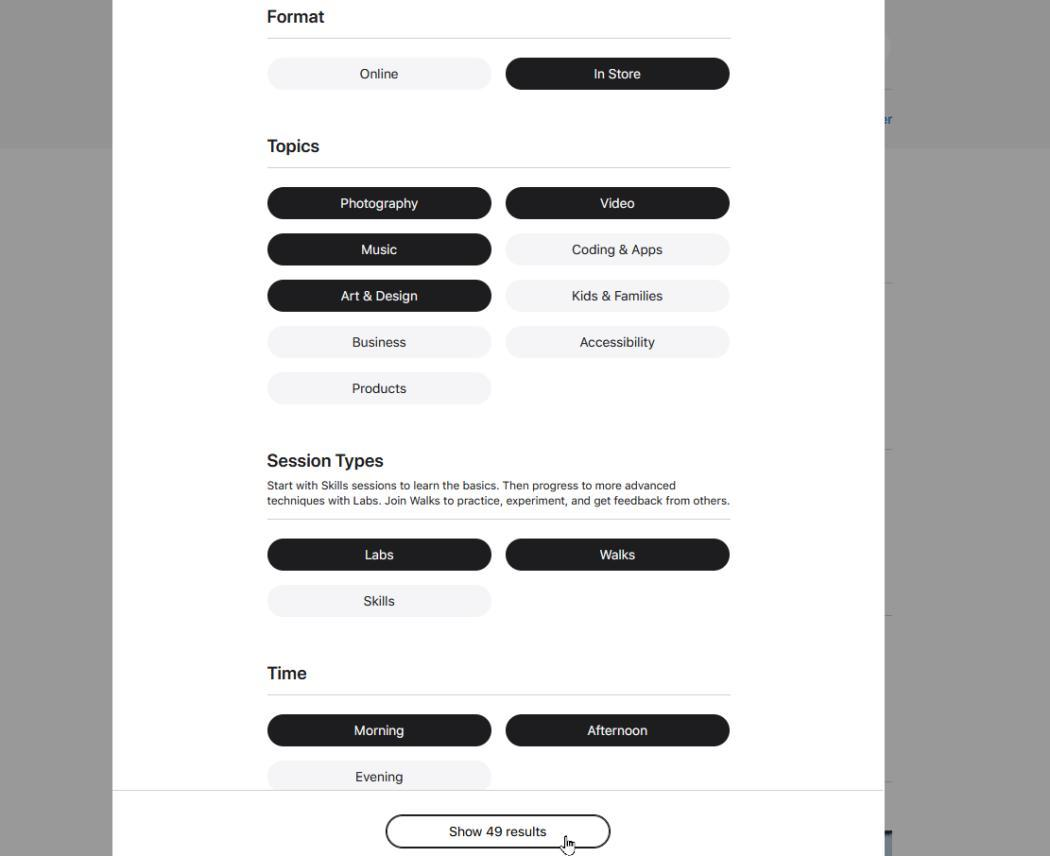button: (504, 231, 731, 271), (507, 54, 733, 93), (502, 278, 733, 316), (266, 278, 494, 316), (266, 56, 493, 94), (506, 323, 731, 361), (268, 185, 495, 222), (268, 327, 494, 364), (267, 233, 495, 269), (505, 538, 731, 574), (506, 714, 731, 750), (268, 583, 492, 619), (267, 370, 493, 405), (269, 539, 495, 574), (267, 714, 493, 749), (386, 815, 612, 850), (269, 759, 491, 794), (506, 187, 732, 220)
